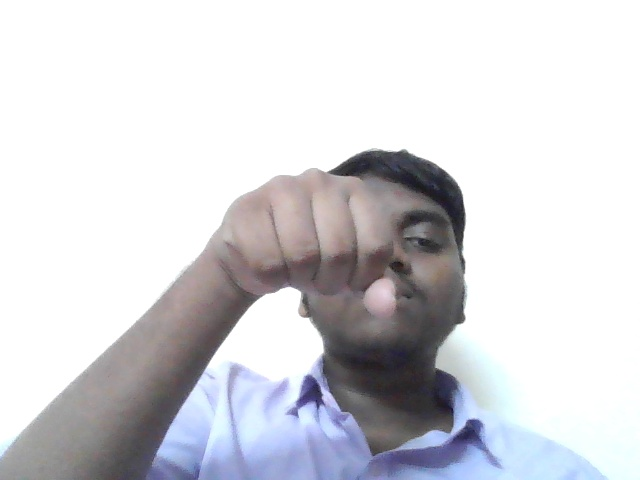Yes: (212, 159, 420, 323)
